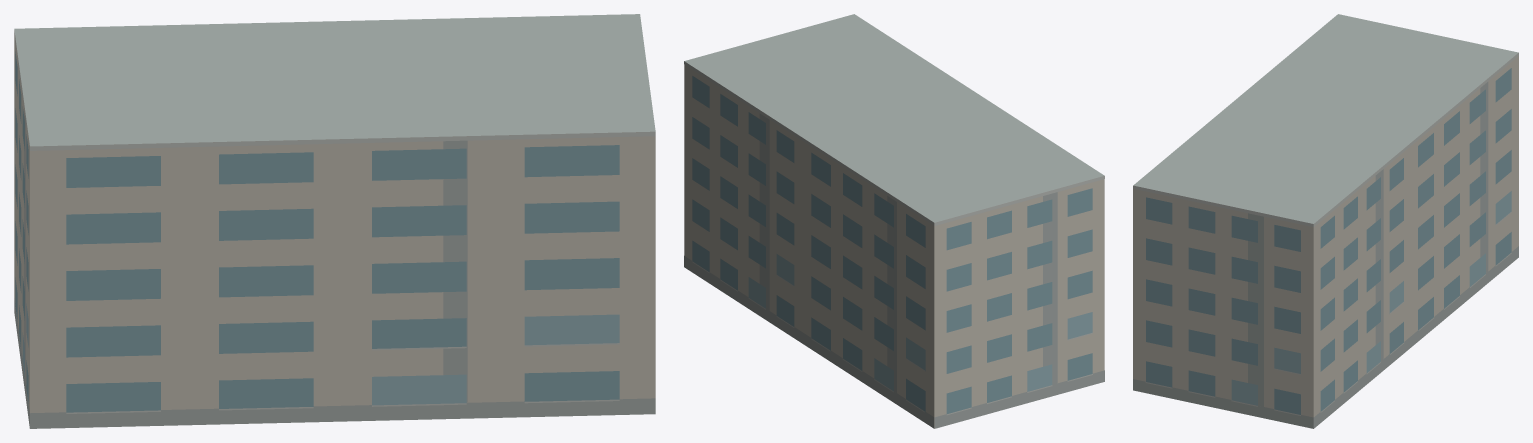
File: residential-053af13e-457e-4e01-b5d0-93b33ec664cf.glb
3 renders of one model, left to right at view 1: azimuth 30°, elevation 25°; view 2: azimuth 150°, elevation 25°; view 3: azimuth 270°, elevation 25°, orthographic. The views are drawn at different scales.
Visible parts, largest first — view 1: residential-053af13e-457e-4e01-b5d0-93b33ec664cf.tmp; view 2: residential-053af13e-457e-4e01-b5d0-93b33ec664cf.tmp; view 3: residential-053af13e-457e-4e01-b5d0-93b33ec664cf.tmp.
Boxes of the visible parts, bbox=[...] form: residential-053af13e-457e-4e01-b5d0-93b33ec664cf.tmp: bbox=[14, 14, 655, 428]; residential-053af13e-457e-4e01-b5d0-93b33ec664cf.tmp: bbox=[684, 14, 1104, 428]; residential-053af13e-457e-4e01-b5d0-93b33ec664cf.tmp: bbox=[1133, 14, 1518, 428].
Bounding box in the file's own units: 33.53 × 15.25 × 26.03.
